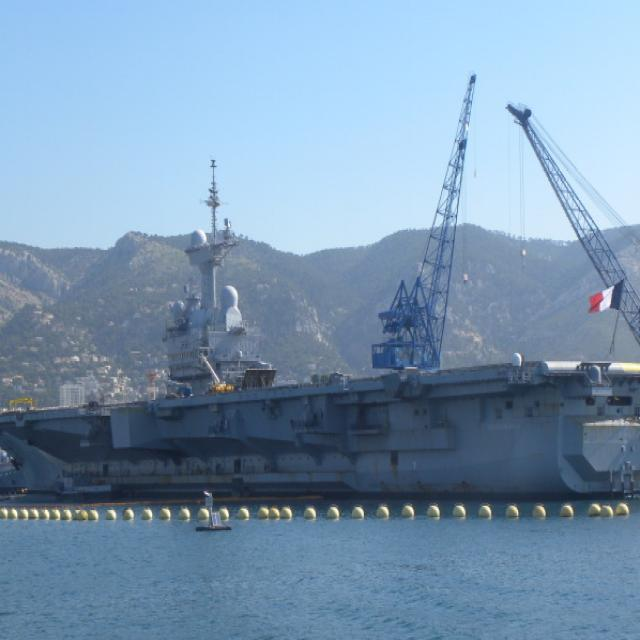Portanaves: (1, 150, 640, 513)
